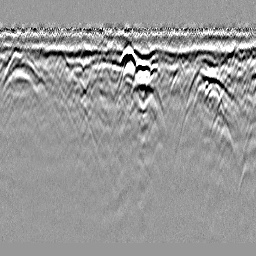cavity: (117, 43, 137, 67)
